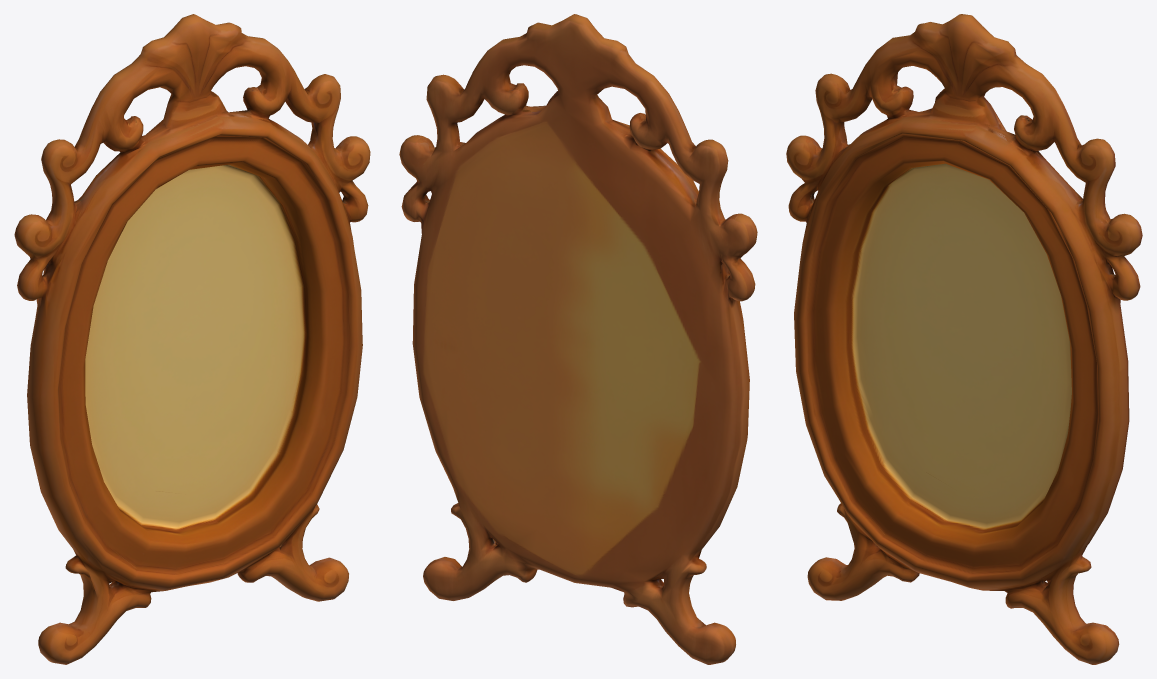
Rendered from salamin.glb.
The picture shows the model from 3 angles, left to right: view 1: azimuth 30°, elevation 25°; view 2: azimuth 150°, elevation 25°; view 3: azimuth 330°, elevation 25°; orthographic projection.
Bounding box in the file's own units: 1.14 × 1.9 × 0.1169.
Materials: 1 (1 with a texture image).
